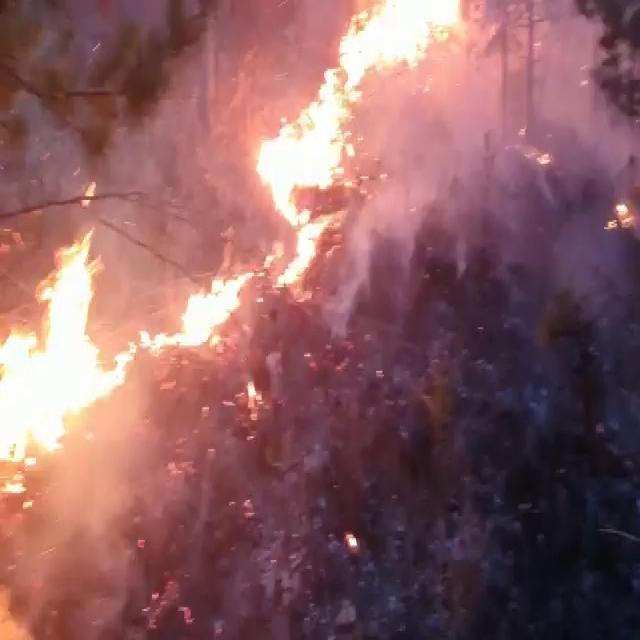Fire: (347, 8, 640, 283), (250, 13, 374, 301), (0, 231, 130, 473), (152, 233, 276, 364), (333, 0, 476, 76)
Smoke: (0, 0, 277, 227)
